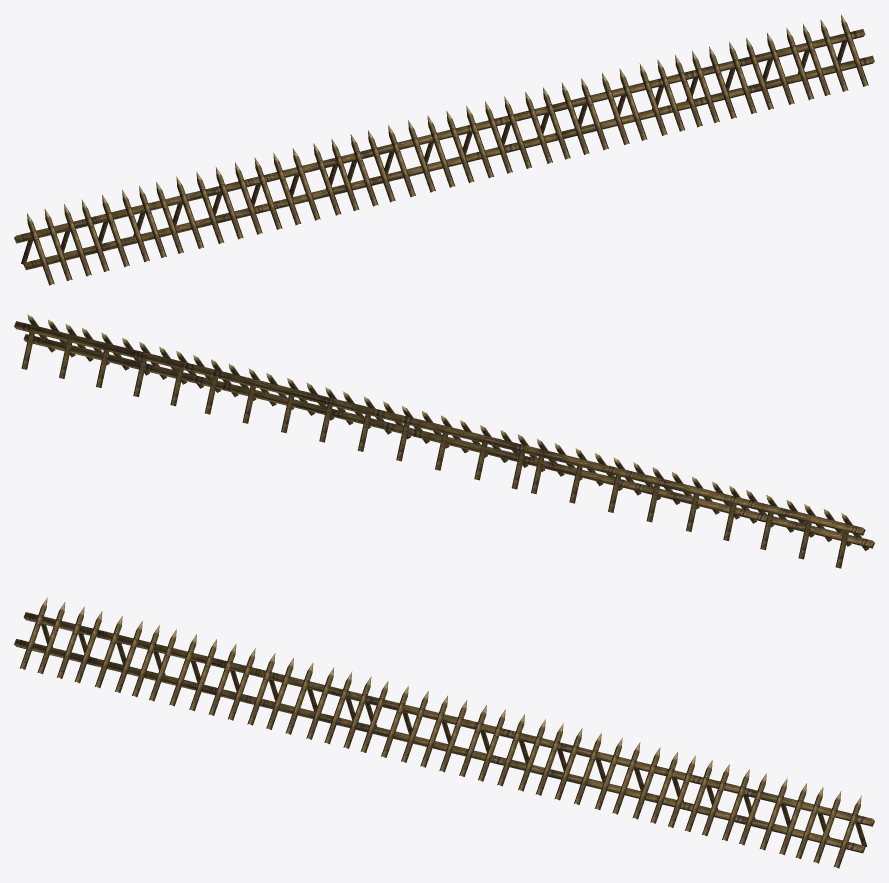
The model's file is bagh_barricade03.glb.
The picture shows the model from 3 angles, top to bottom: view 1: azimuth 30°, elevation 25°; view 2: azimuth 150°, elevation 25°; view 3: azimuth 330°, elevation 25°; orthographic projection.
Parts seen in each view (by area): view 1: res\bldg\arabia\bagh_city\event\bagh_barricade03.bsr; view 2: res\bldg\arabia\bagh_city\event\bagh_barricade03.bsr; view 3: res\bldg\arabia\bagh_city\event\bagh_barricade03.bsr.
Part boxes in pixels (x1,y1,x2,y2): res\bldg\arabia\bagh_city\event\bagh_barricade03.bsr: (14,14,874,285); res\bldg\arabia\bagh_city\event\bagh_barricade03.bsr: (14,314,874,568); res\bldg\arabia\bagh_city\event\bagh_barricade03.bsr: (14,597,874,868).
Size of the model in its own units: 211 by 13.28 by 13.4.
Materials: 1 (1 with a texture image).
